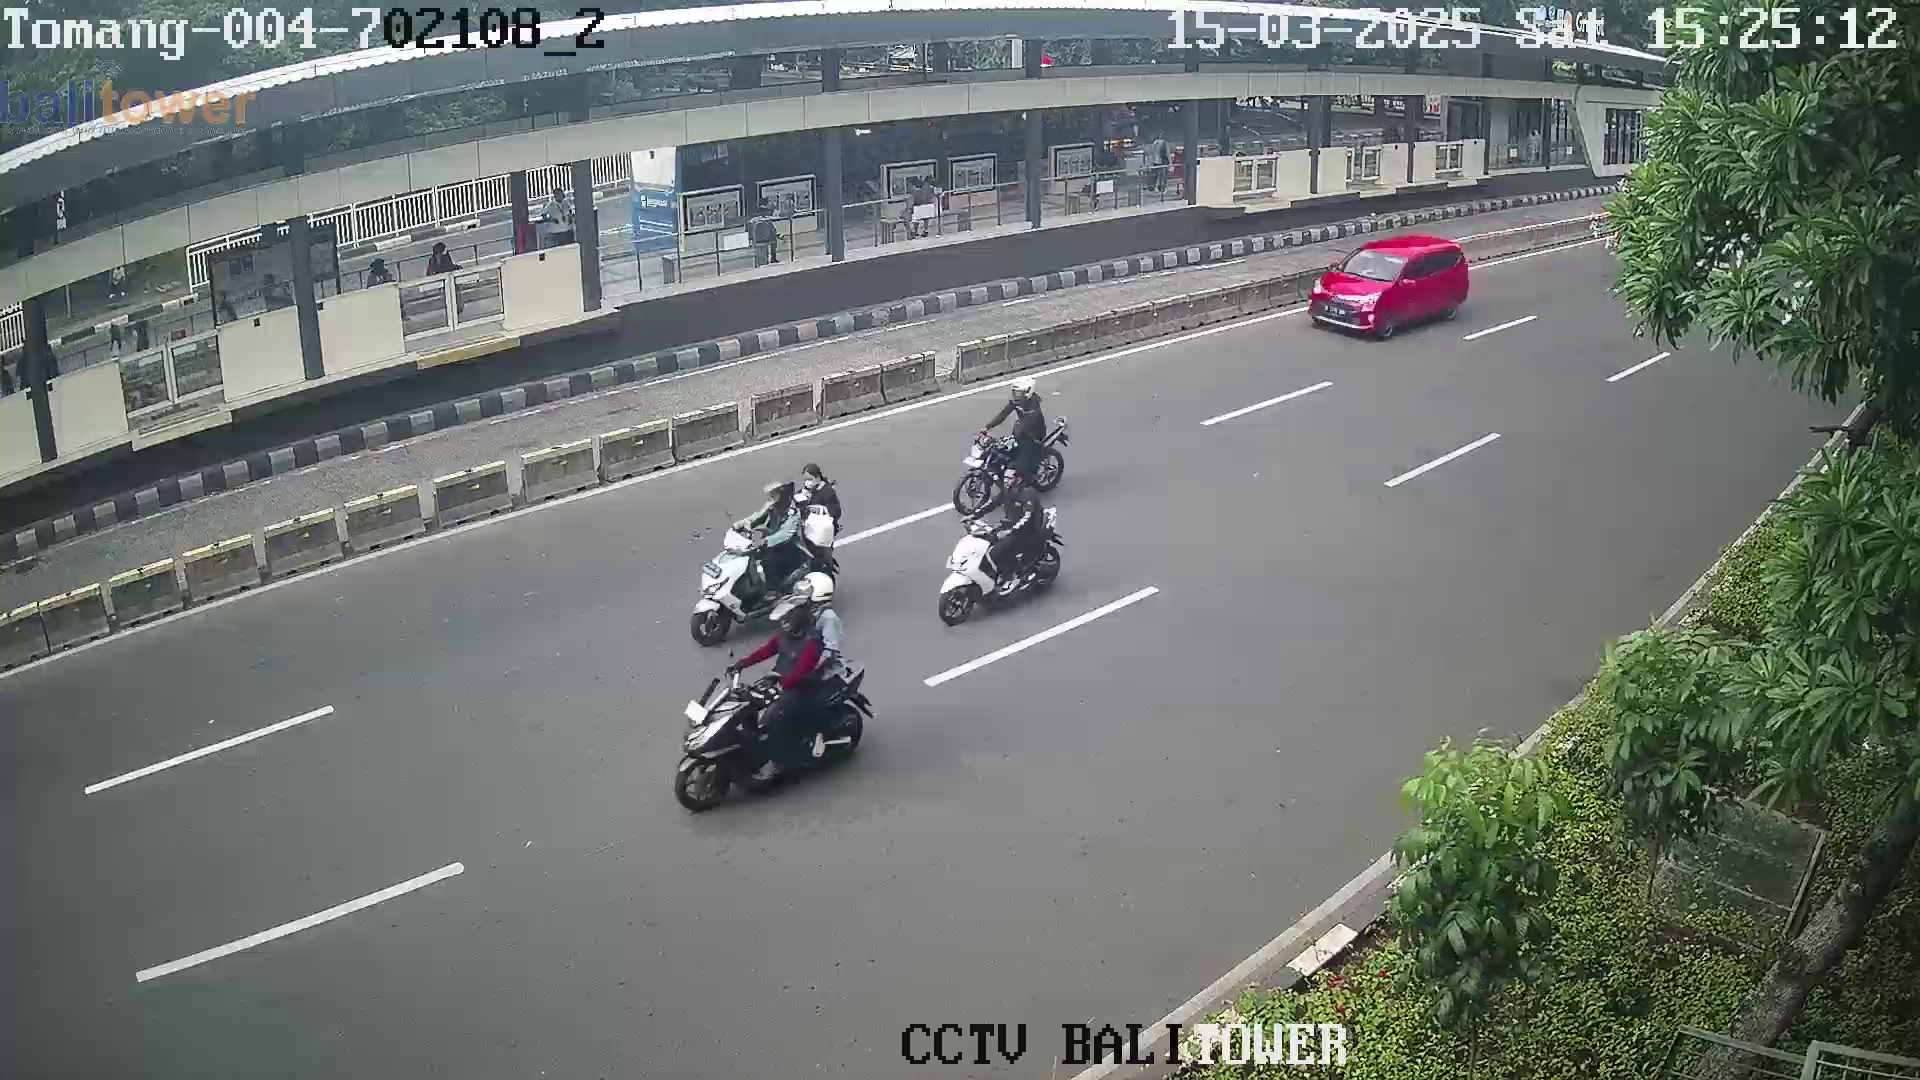half-face helmet: (796, 571, 843, 614), (768, 596, 806, 641), (761, 476, 796, 514), (1006, 371, 1039, 406)
no helmet: (800, 463, 839, 494), (1000, 459, 1027, 502)
